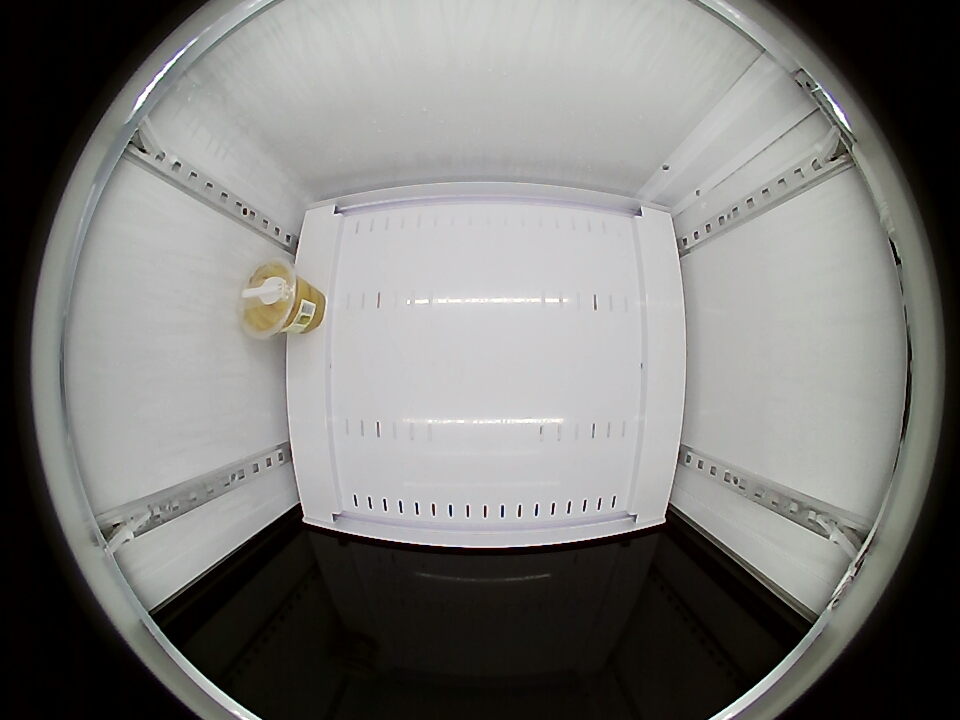xianguolao: (241, 261, 301, 337)
